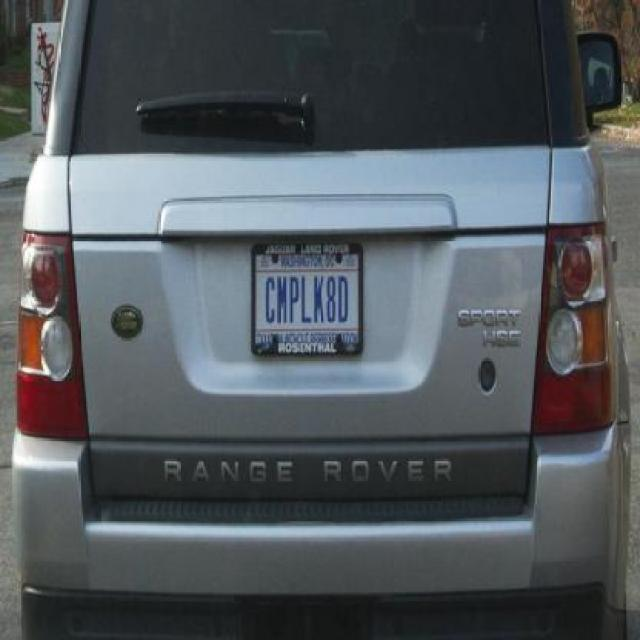License-Plates: (246, 230, 370, 362)
